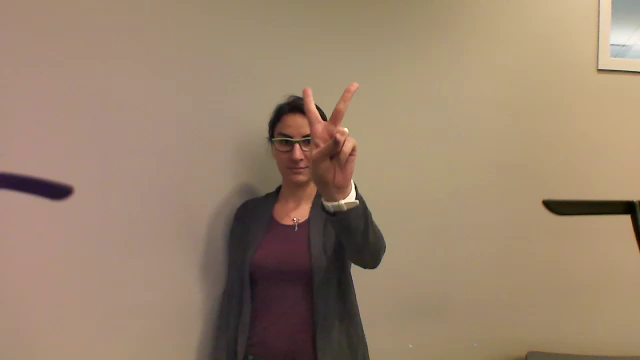peace: (295, 79, 366, 190)
